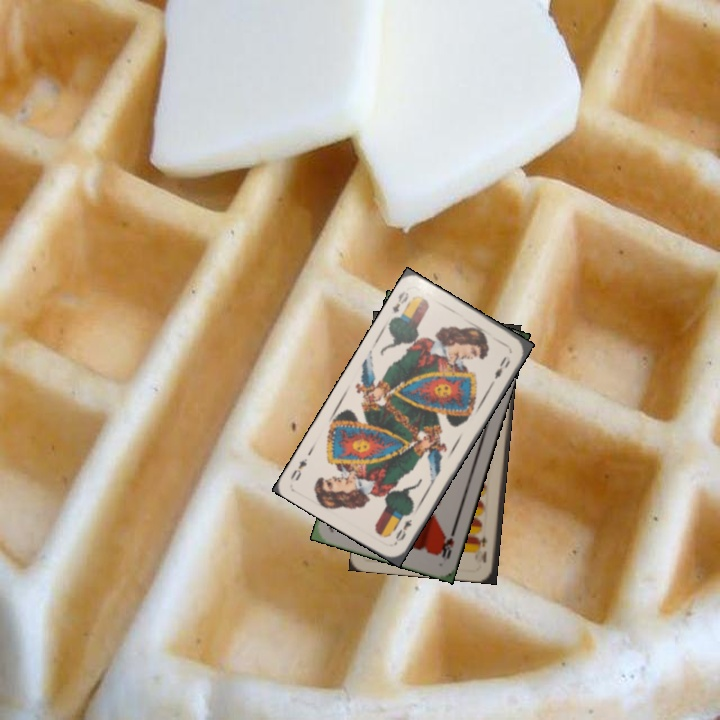E10: (475, 531, 490, 565)
EO: (391, 515, 415, 546), (388, 287, 411, 316)
HO: (436, 524, 458, 561)
